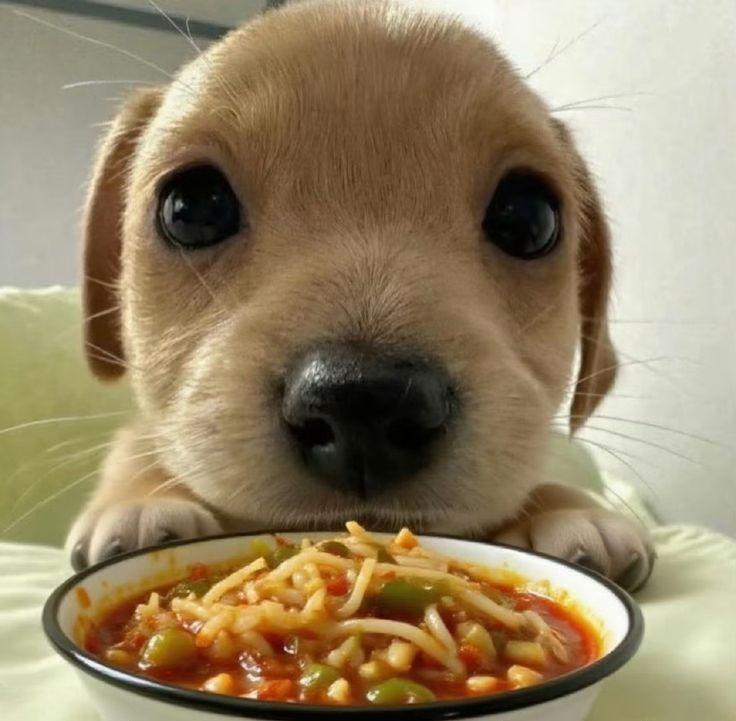puppy-dog: (62, 0, 657, 597)
